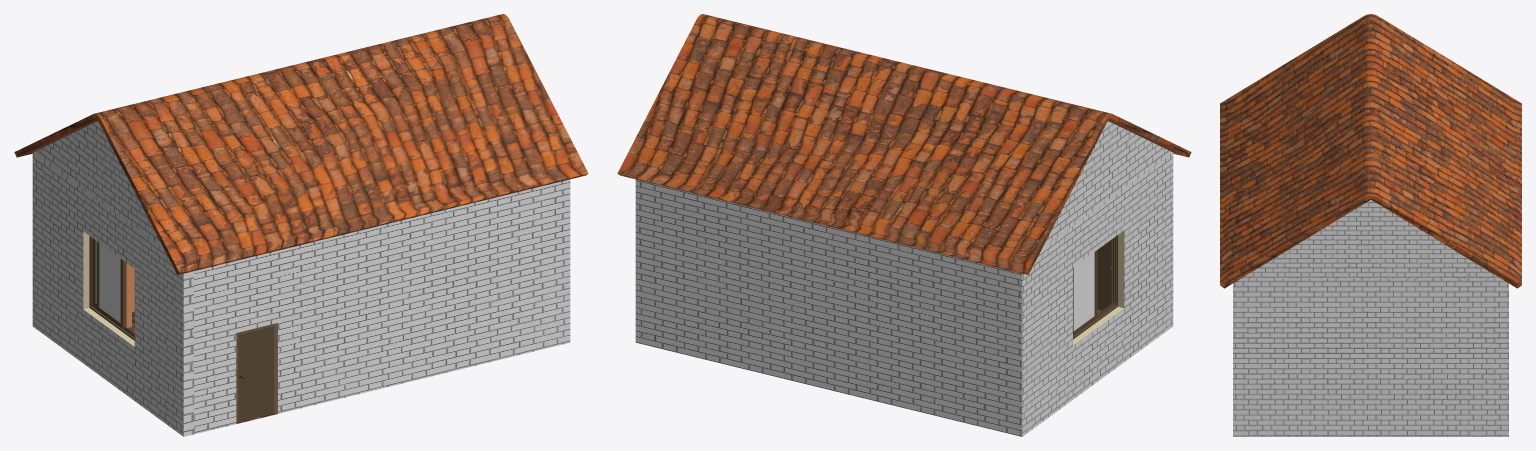
File: House.glb
3 renders of one model, left to right at view 1: azimuth 30°, elevation 25°; view 2: azimuth 150°, elevation 25°; view 3: azimuth 270°, elevation 25°, orthographic. The views are drawn at different scales.
Parts seen in each view (by area): view 1: Room, Roof, Door, WindowGlass.L, Window.L, DoorFrame, bookcaseClosedDoors, WindowFrame; view 2: Room, Roof, WindowGlass.L, Door, WindowFrame; view 3: Roof, Room.
Part boxes in pixels (bbox=[...]): Room: bbox=[32, 121, 570, 436]; Roof: bbox=[14, 14, 588, 274]; Door: bbox=[238, 326, 272, 421]; WindowGlass.L: bbox=[96, 241, 120, 322]; Window.L: bbox=[93, 239, 124, 328]; DoorFrame: bbox=[236, 323, 276, 422]; bookcaseClosedDoors: bbox=[124, 261, 134, 327]; WindowFrame: bbox=[89, 236, 134, 340]; Room: bbox=[635, 121, 1173, 436]; Roof: bbox=[617, 14, 1191, 274]; WindowGlass.L: bbox=[1073, 252, 1094, 330]; Door: bbox=[1097, 239, 1111, 310]; WindowFrame: bbox=[1073, 235, 1117, 339]; Roof: bbox=[1220, 14, 1521, 288]; Room: bbox=[1233, 200, 1508, 436].
Bounding box in the file's own units: 9.85 × 6.22 × 6.91.
Materials: 46 (9 with a texture image).
